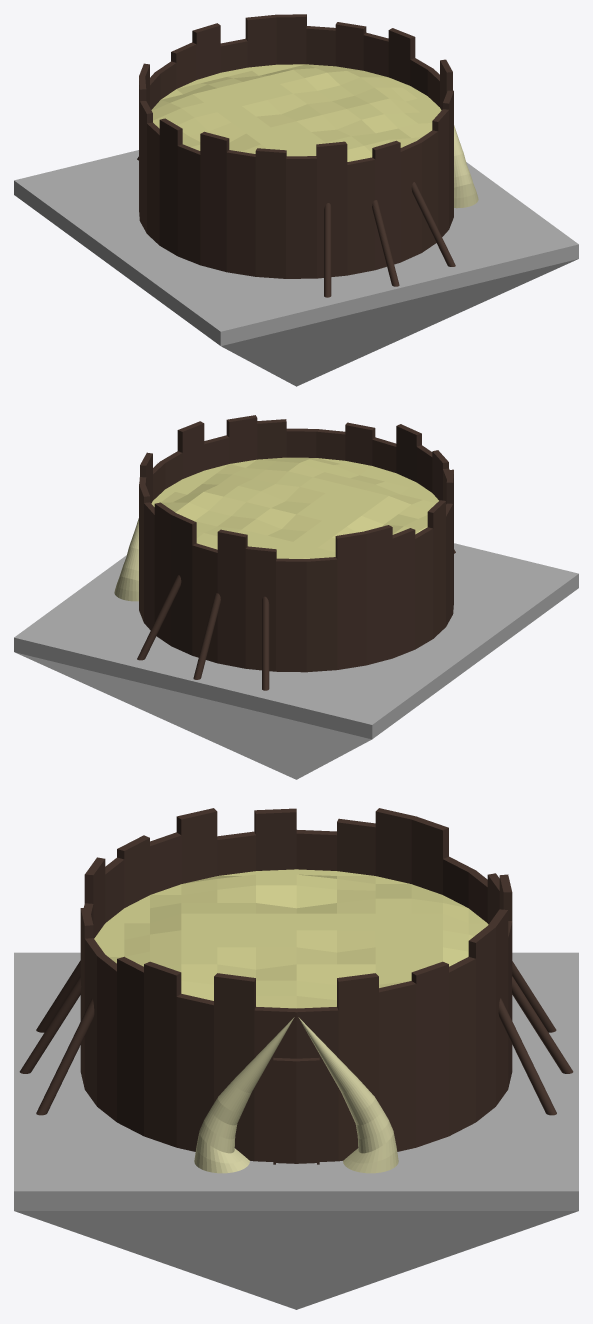
File: Building Granary T1.fbx
3 views of the same model, one above another, from view 1: azimuth 30°, elevation 25°; view 2: azimuth 150°, elevation 25°; view 3: azimuth 270°, elevation 25° (orthographic). The views are drawn at different scales.
Parts seen in each view (by area): view 1: Granary; view 2: Granary; view 3: Granary.
Part boxes in pixels (bbox=[...]): Granary: bbox=[14, 14, 578, 386]; Granary: bbox=[14, 415, 578, 779]; Granary: bbox=[14, 808, 578, 1309].
Bounding box in the file's own units: 1599 × 1304 × 1599.
